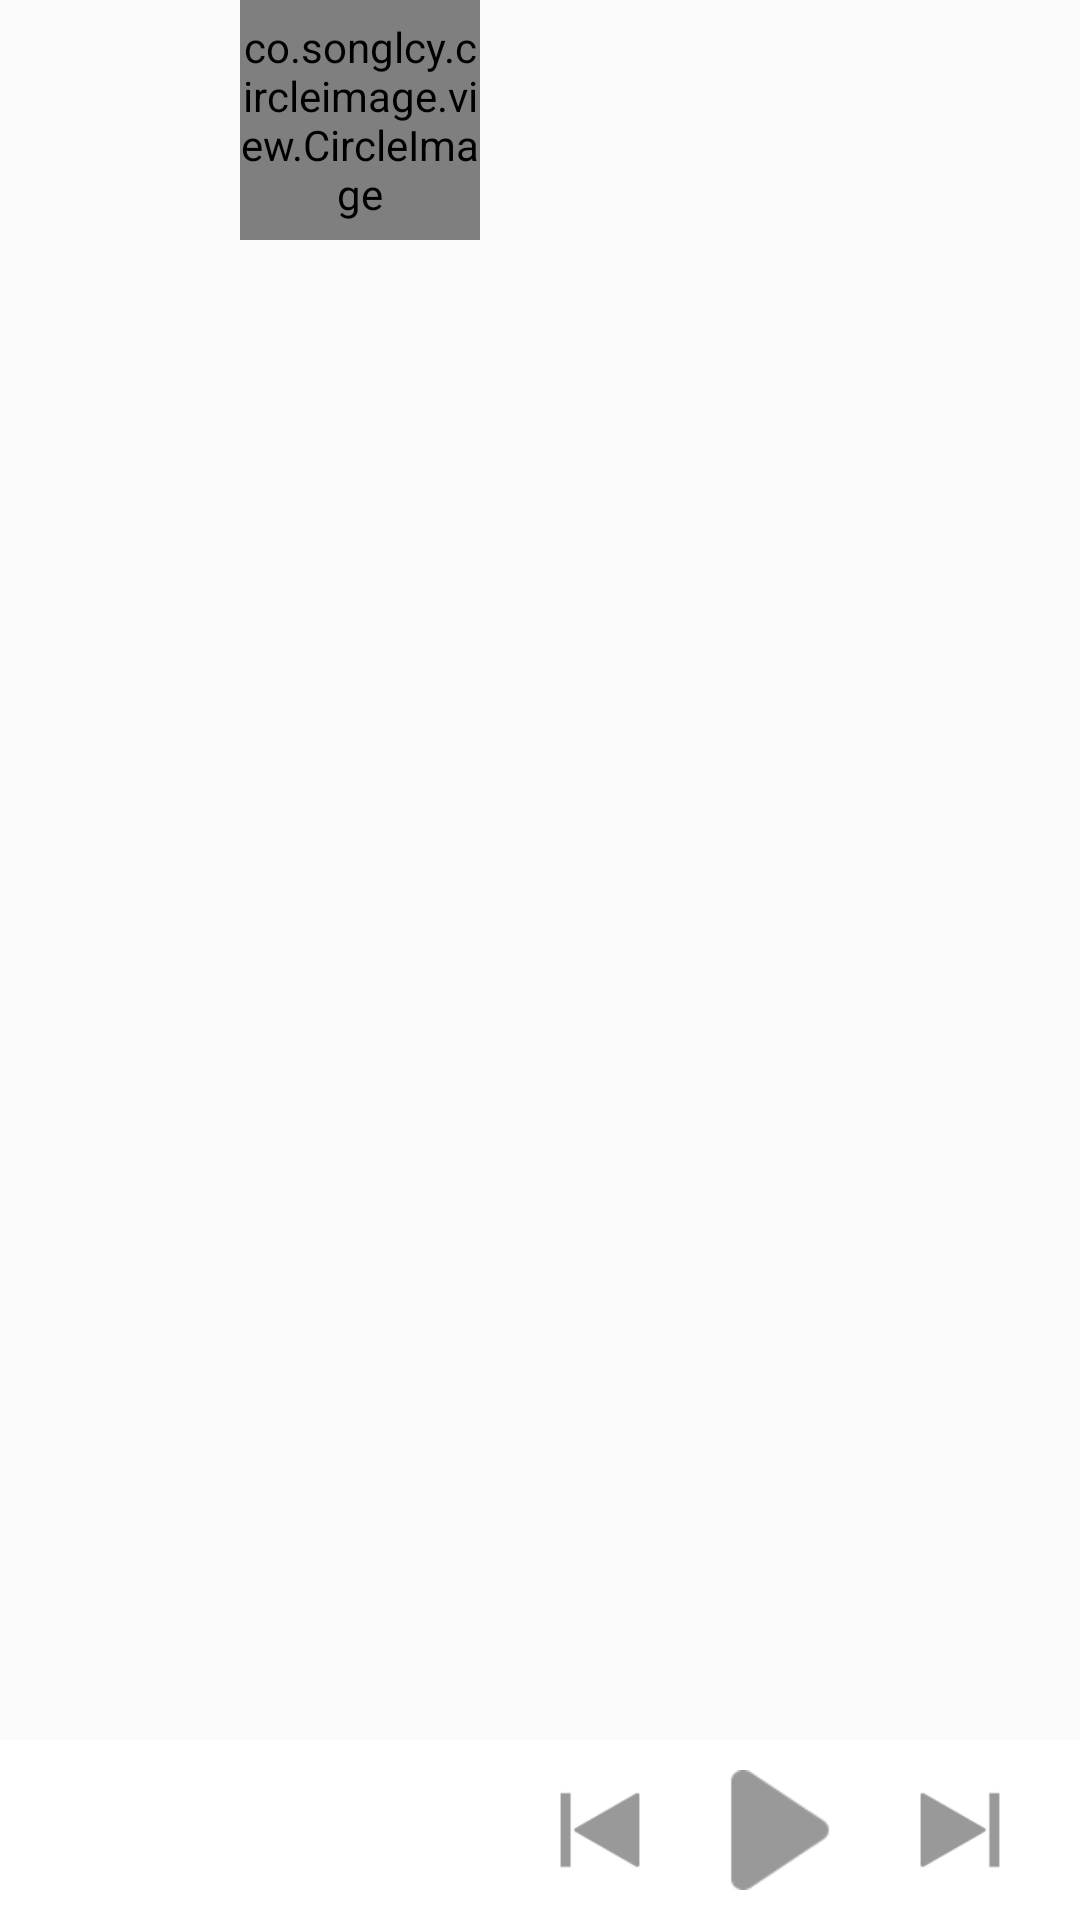

Icons on this 1080px x 1920px Android screen, each with its box as {"x1": x1, "y1": y1, "x2": x2, "y2": y2}:
player last: {"x1": 560, "y1": 1793, "x2": 640, "y2": 1867}
player next: {"x1": 920, "y1": 1793, "x2": 1000, "y2": 1867}
player start: {"x1": 731, "y1": 1770, "x2": 829, "y2": 1890}
